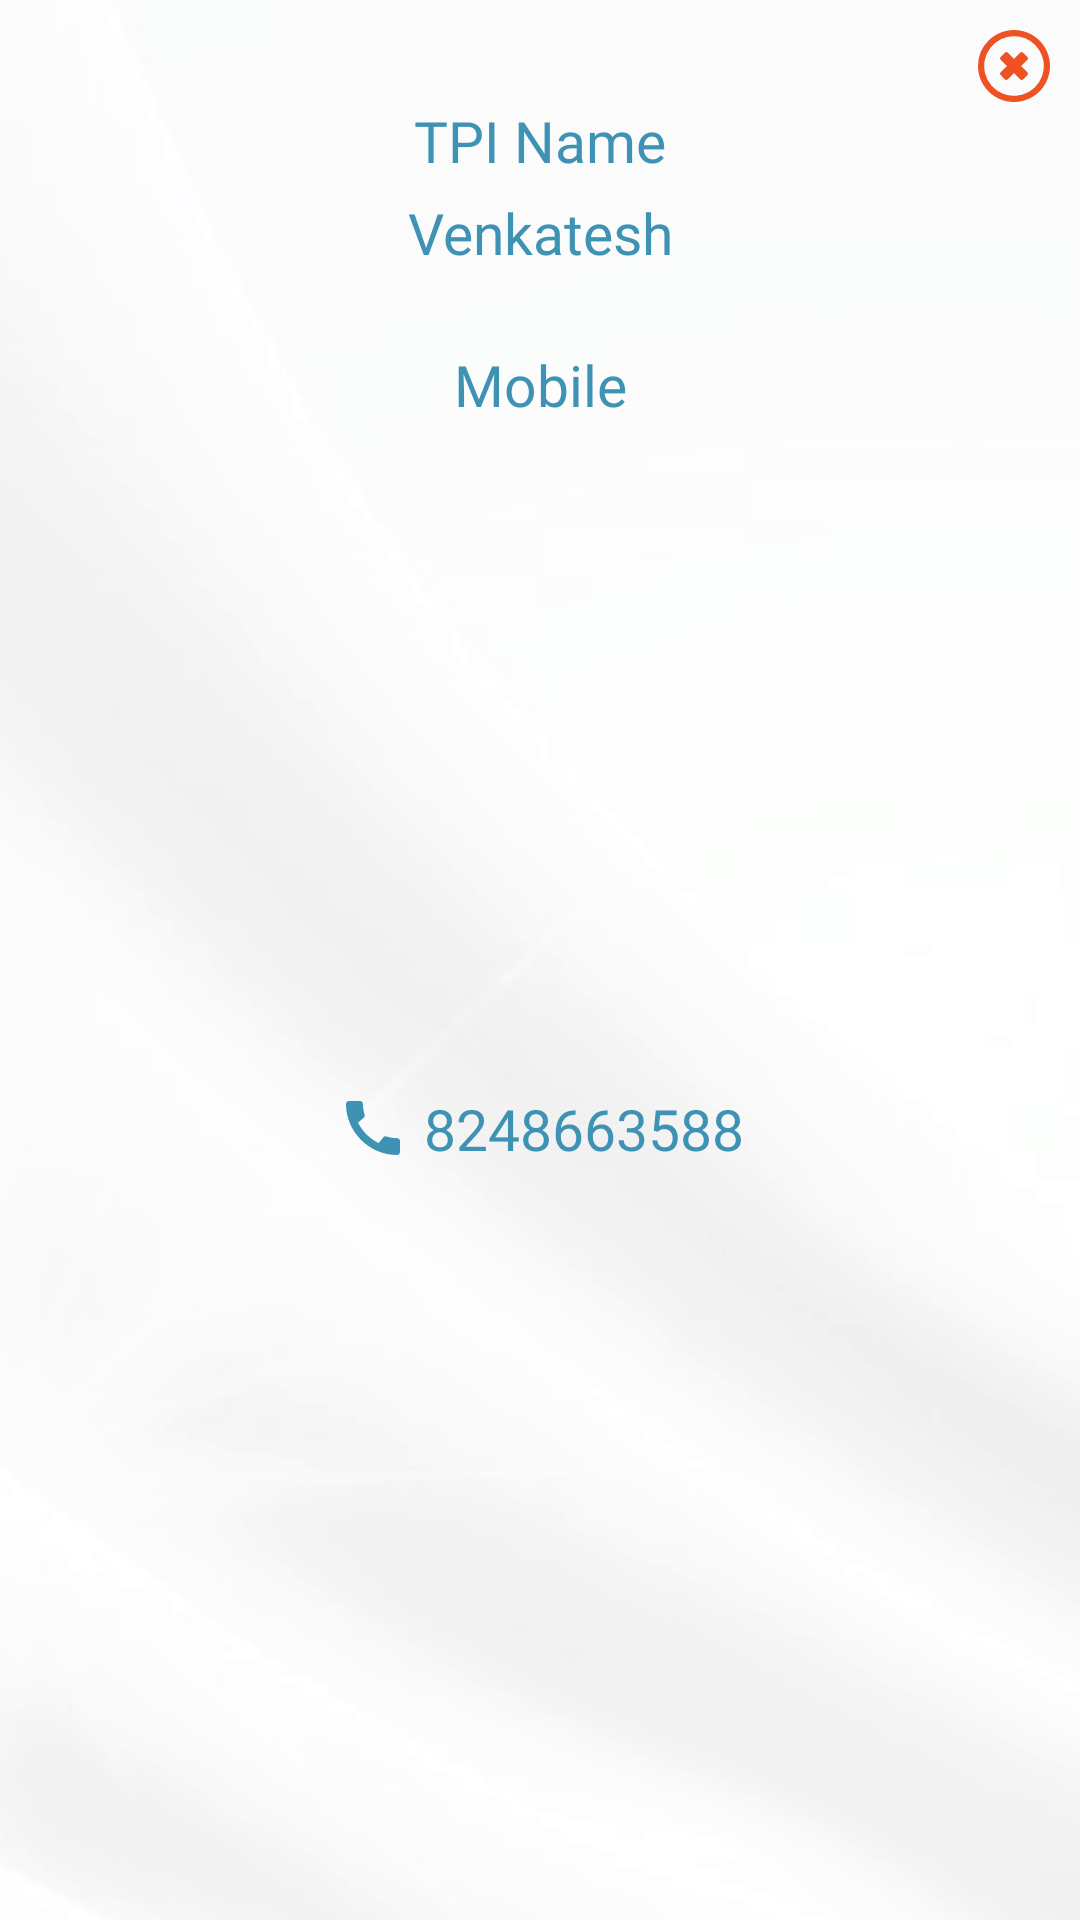

Icons on this 1080 × 1920 Android screen, each with its box as box(x1, y1, x2, y2):
close: box(978, 30, 1050, 102)
